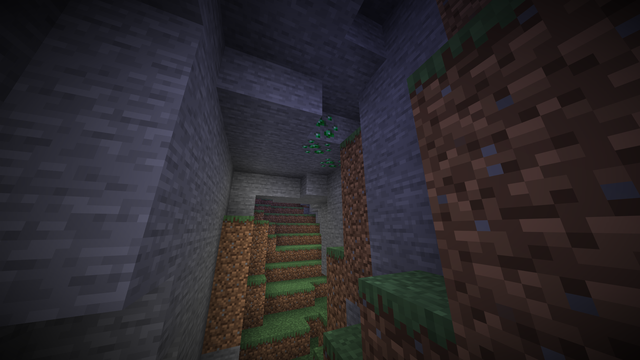emerald: (302, 114, 345, 171)
